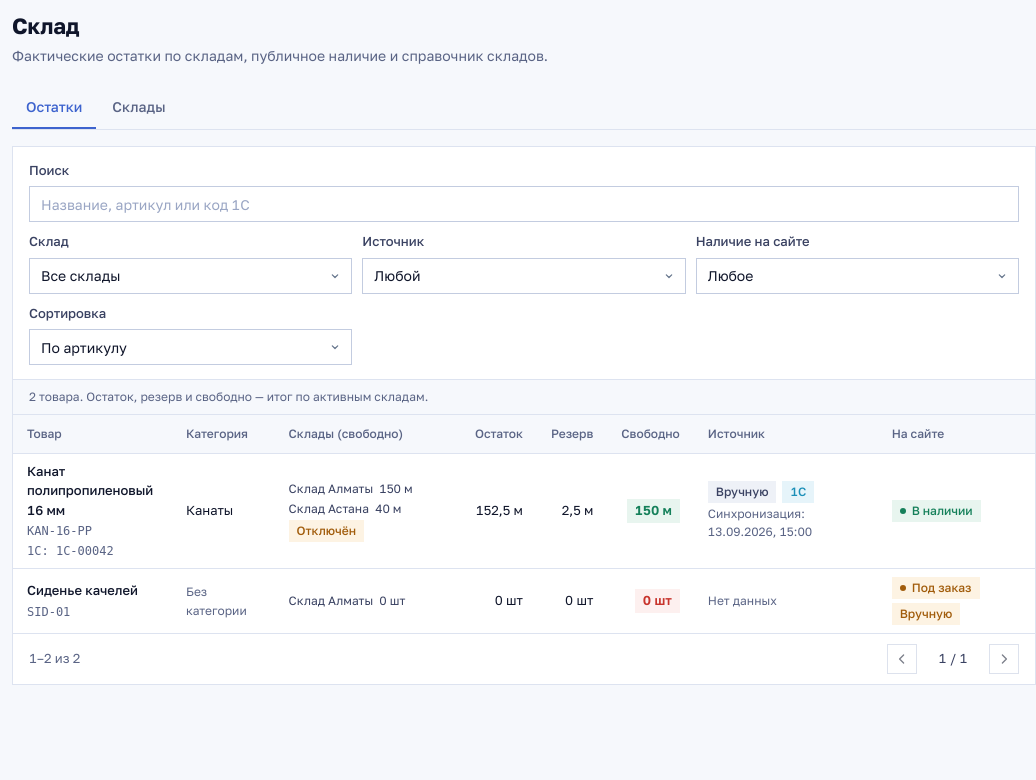
Test: список остатков › склад: запрос warehouse_id, цифры по складу и пояснение
Select "Склад Астана (отключён)" in the dropdown labelled "Склад" at (191, 276), box [29,258,352,294]
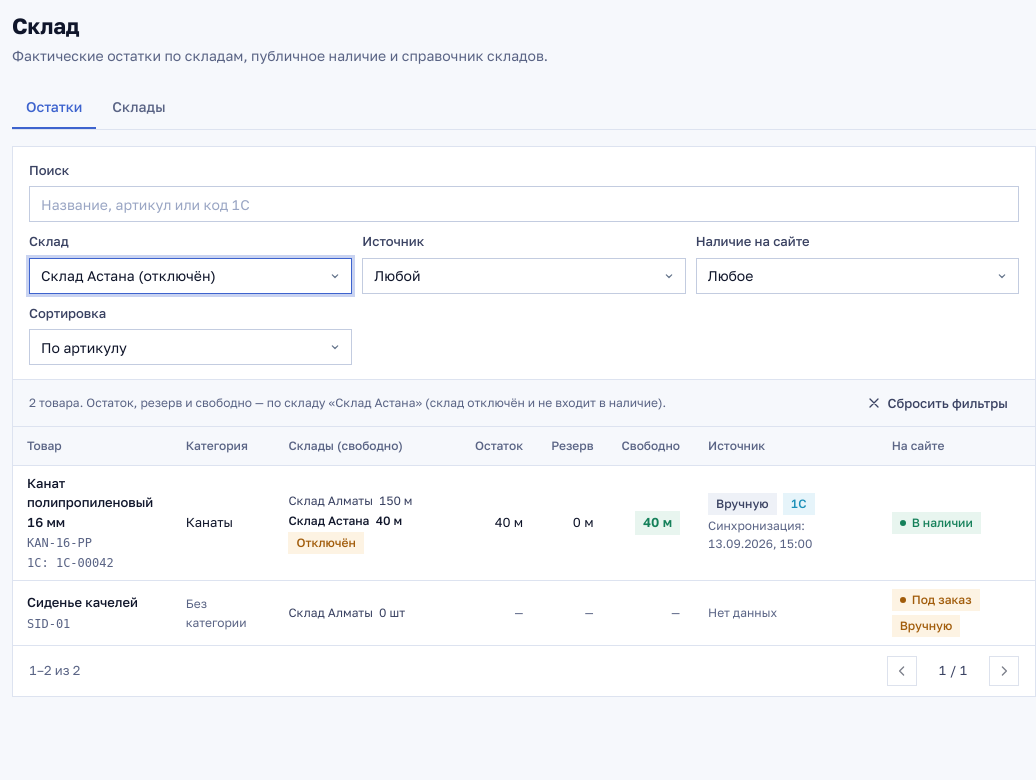
Now the text "по складу «Склад Астана» (склад отключён и не входит в наличие)" is shown, box [86,395,666,410]
Now the 1st cell "40 м" is shown, box [461,466,537,581]
Now the 1st cell "—" is shown, box [461,581,537,645]
